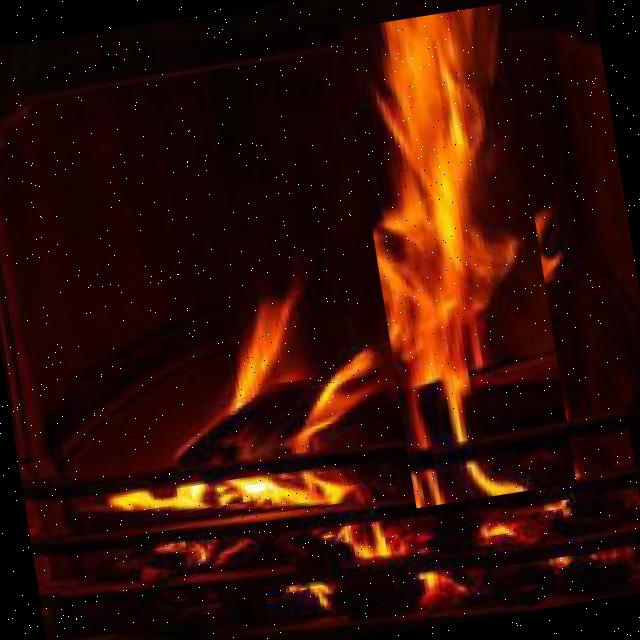fire: (340, 4, 576, 508)
